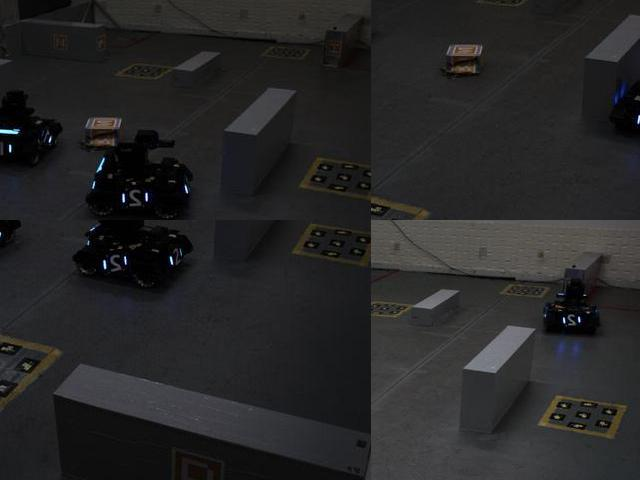armor: (116, 183, 155, 214), (159, 243, 189, 274), (101, 249, 131, 278), (560, 312, 585, 331), (38, 127, 56, 151), (0, 137, 17, 161), (631, 109, 639, 136), (0, 221, 7, 249)
